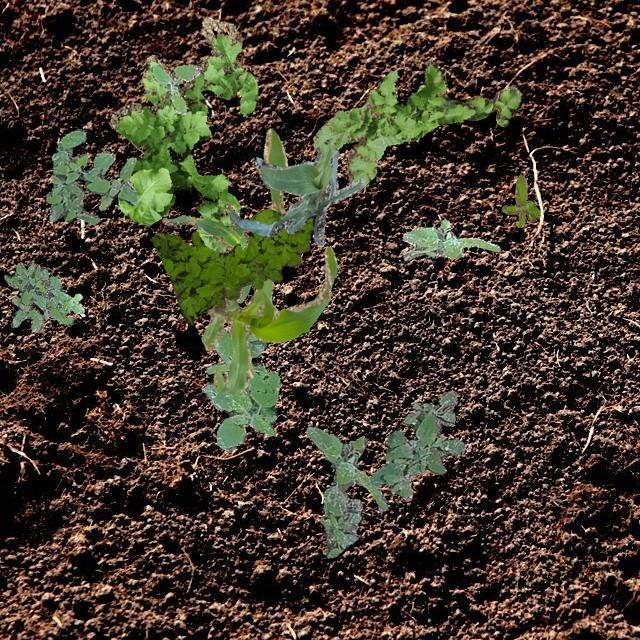crop: (200, 128, 336, 392), (228, 146, 362, 244), (160, 202, 248, 302)
weed: (108, 16, 256, 252), (312, 61, 522, 186), (150, 208, 312, 324), (306, 424, 388, 556), (368, 391, 464, 498), (200, 328, 278, 451), (45, 128, 136, 224), (3, 262, 82, 331), (402, 218, 499, 260), (150, 64, 200, 114), (500, 174, 540, 226)
